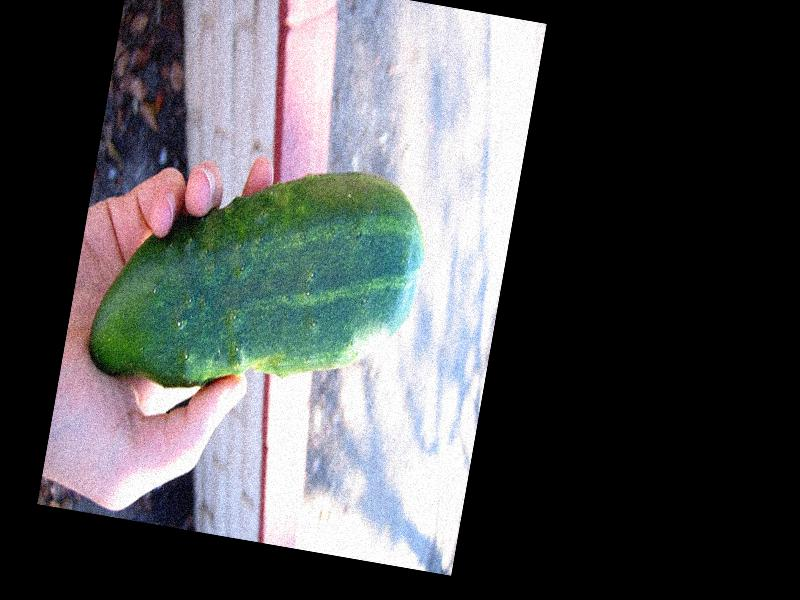Cucumber: (84, 129, 435, 424)
